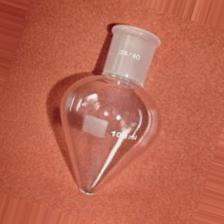Pear shaped flask: (40, 18, 162, 195)
